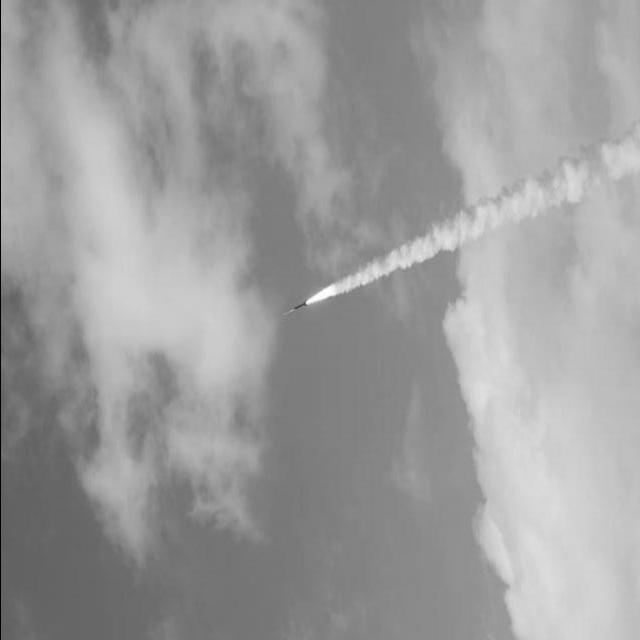missile: (279, 293, 309, 323)
